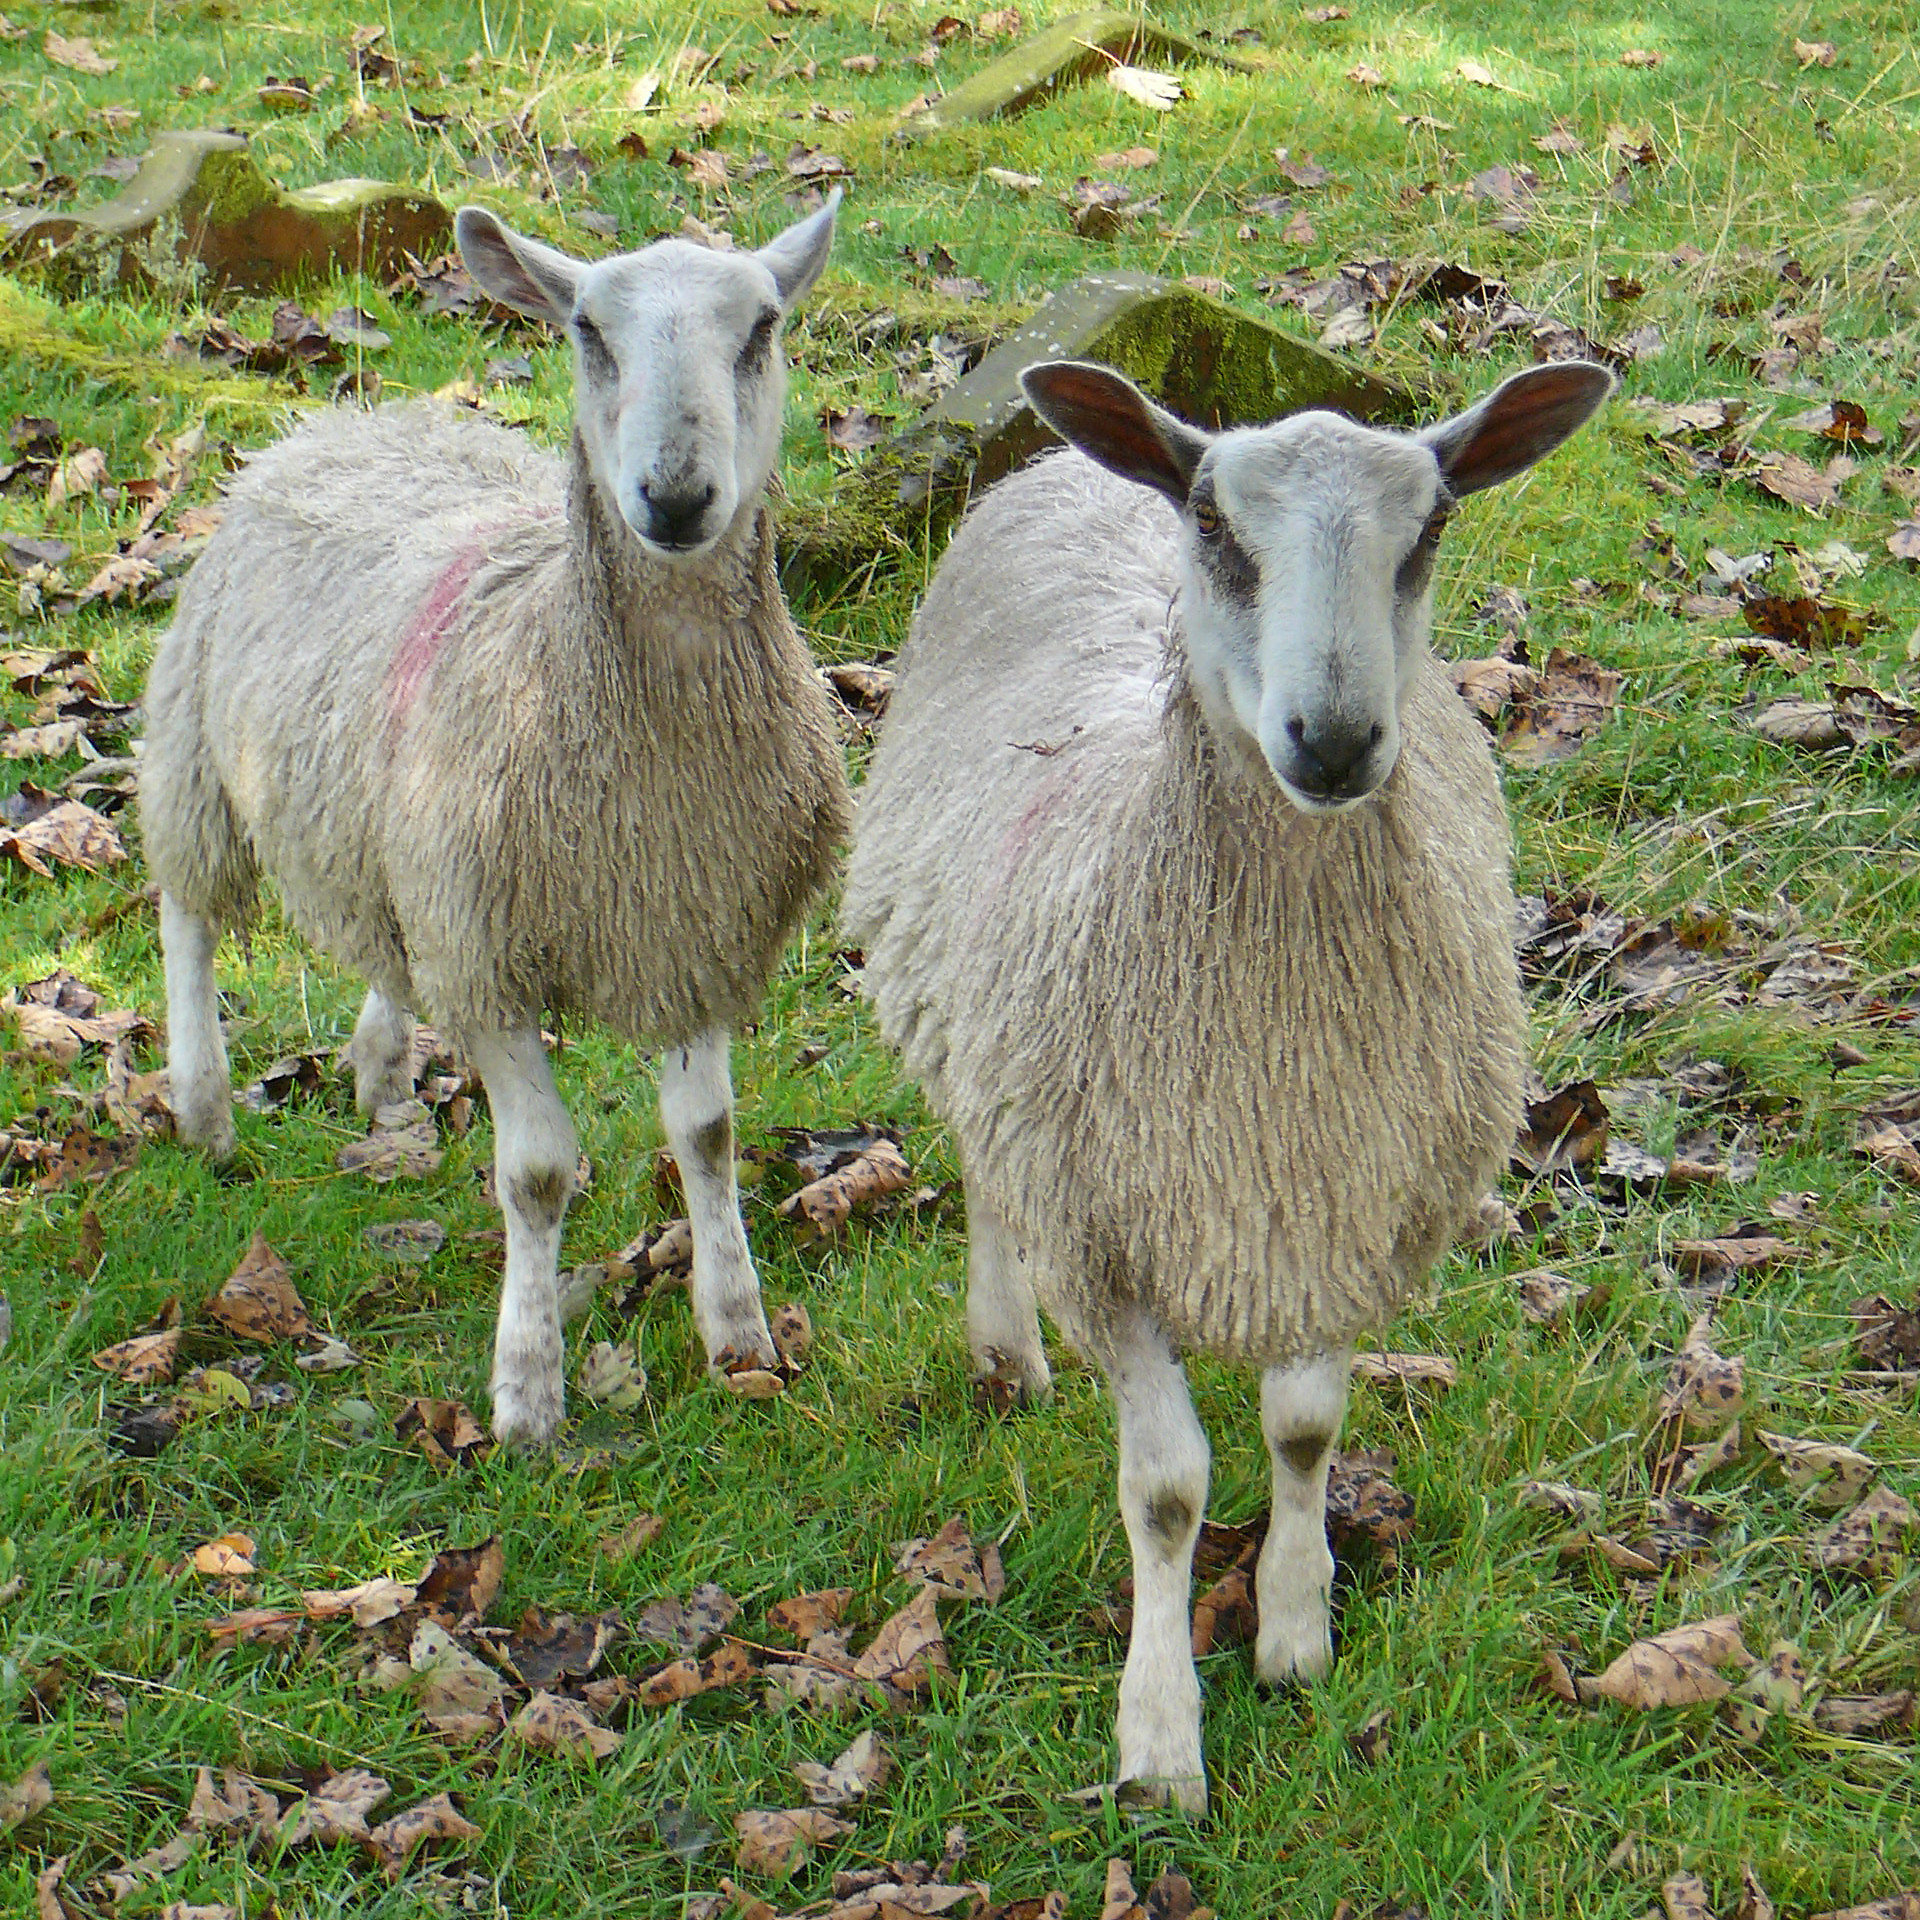sheep: (870, 338, 1619, 1858), (111, 204, 840, 1426)
